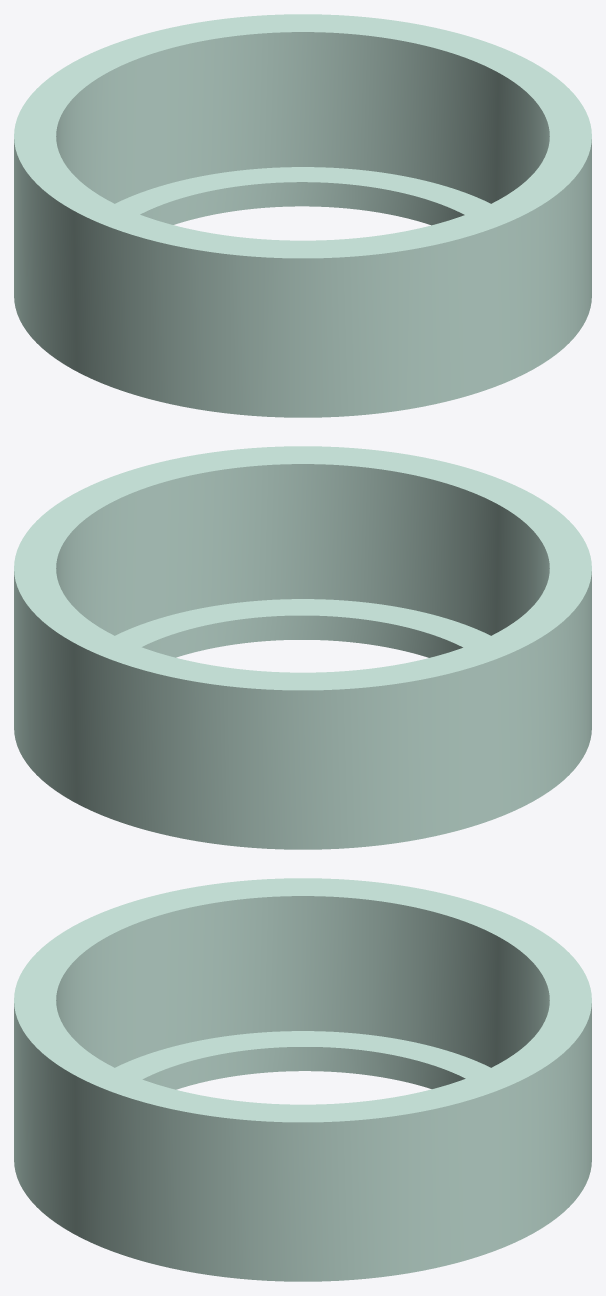
3 renders of one model, top to bottom at view 1: azimuth 30°, elevation 25°; view 2: azimuth 150°, elevation 25°; view 3: azimuth 270°, elevation 25°, orthographic.
Visible parts, largest first — view 1: Renderer Node; view 2: Renderer Node; view 3: Renderer Node.
Boxes of the visible parts, left/top/right/bottom form: Renderer Node: left=14, top=14, right=591, bottom=417; Renderer Node: left=14, top=446, right=591, bottom=849; Renderer Node: left=14, top=878, right=591, bottom=1281.
Bounding box in the file's own units: 1.52 × 0.4609 × 1.52.
